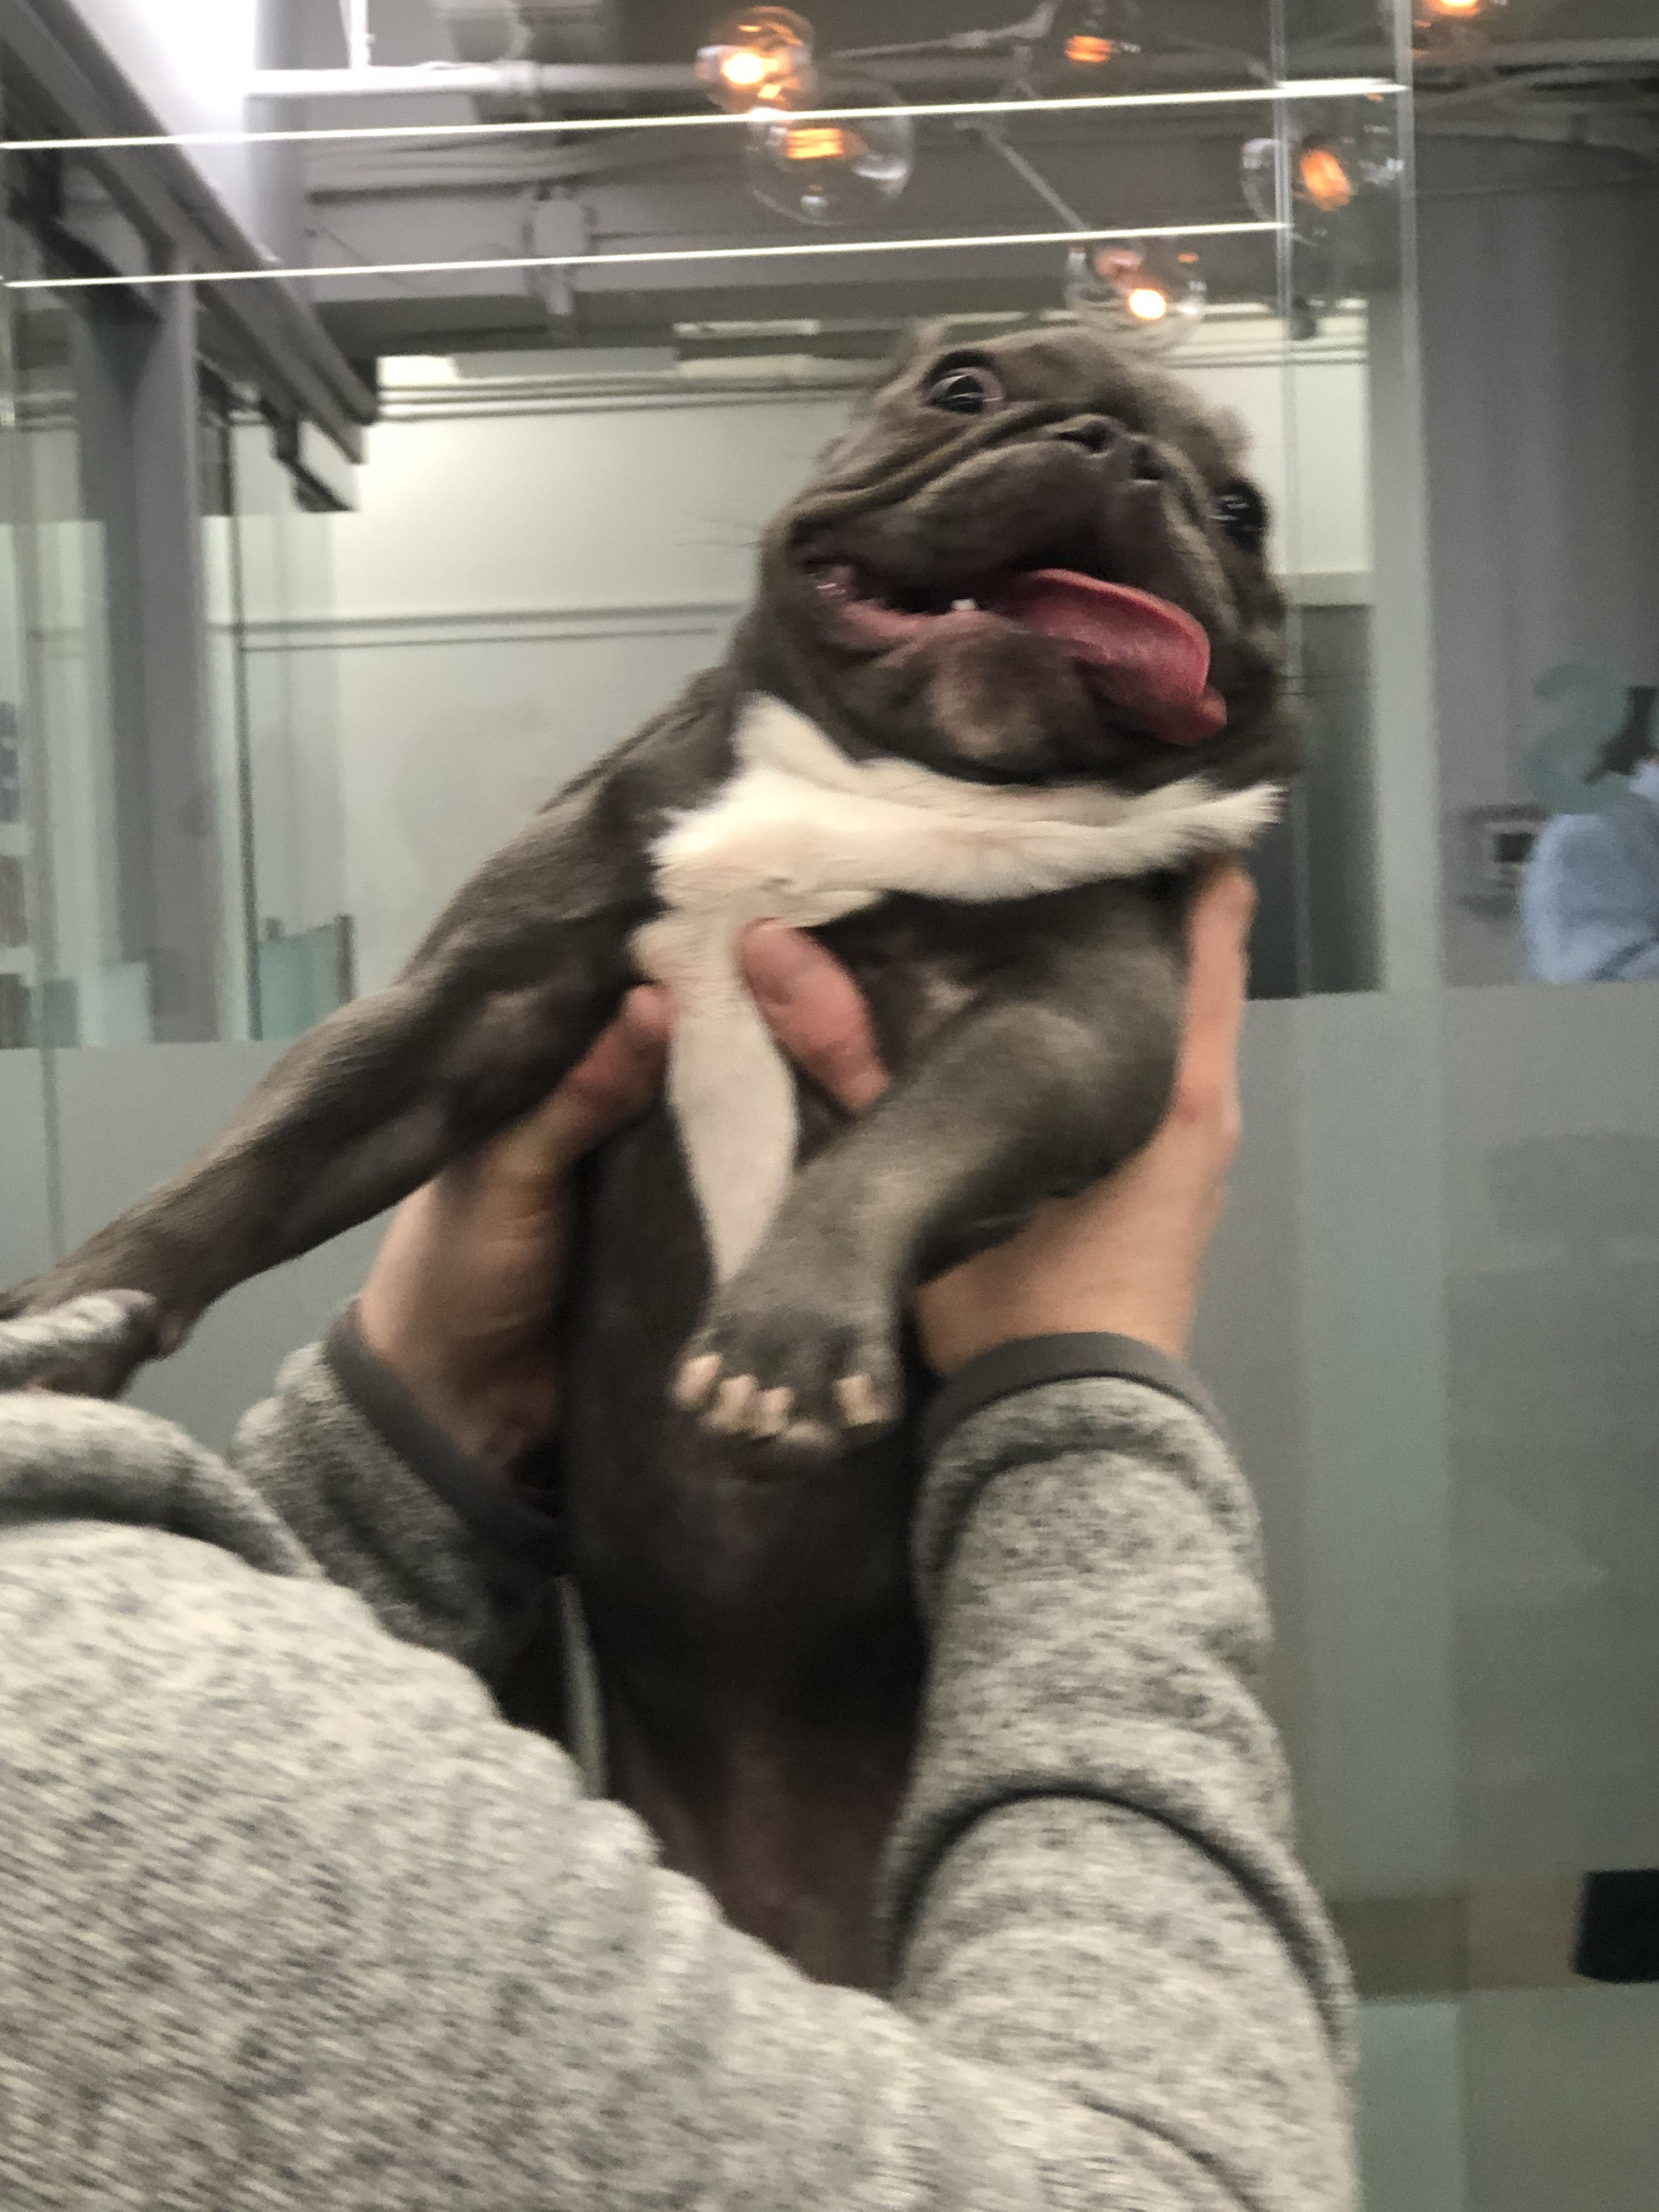lucy: (17, 317, 1304, 1987)
